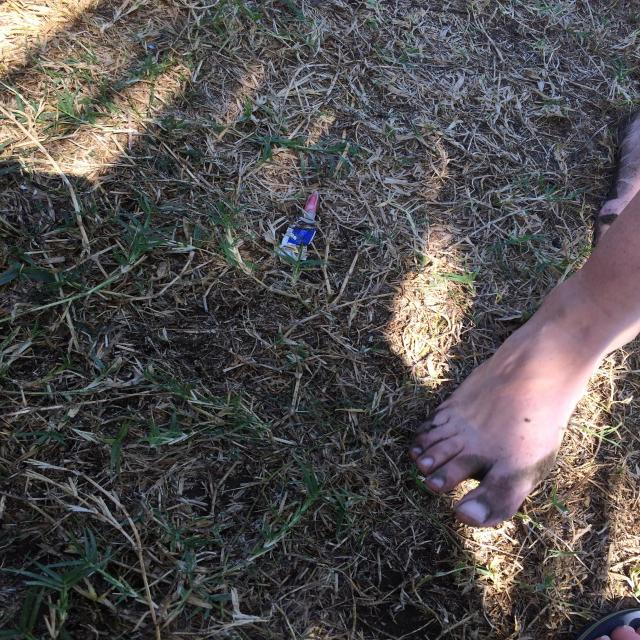Squeezable tube: (275, 190, 318, 262)
